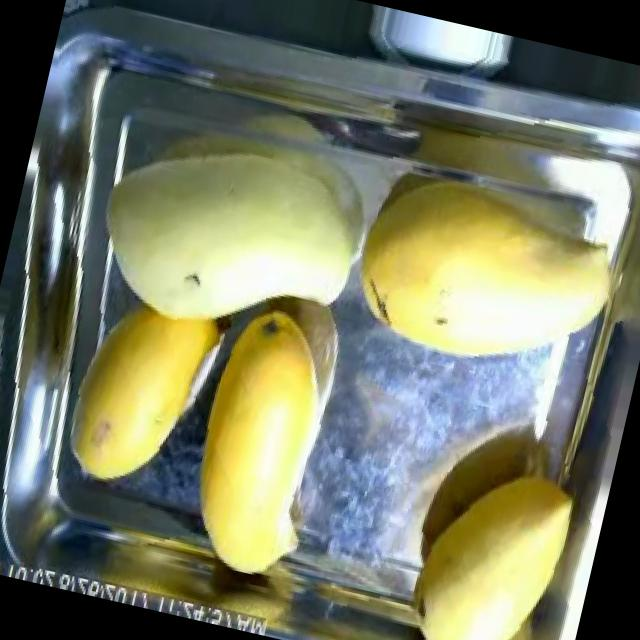fruit: (73, 93, 394, 374), (332, 137, 640, 400), (160, 280, 363, 591), (389, 439, 592, 640), (51, 281, 224, 509)
